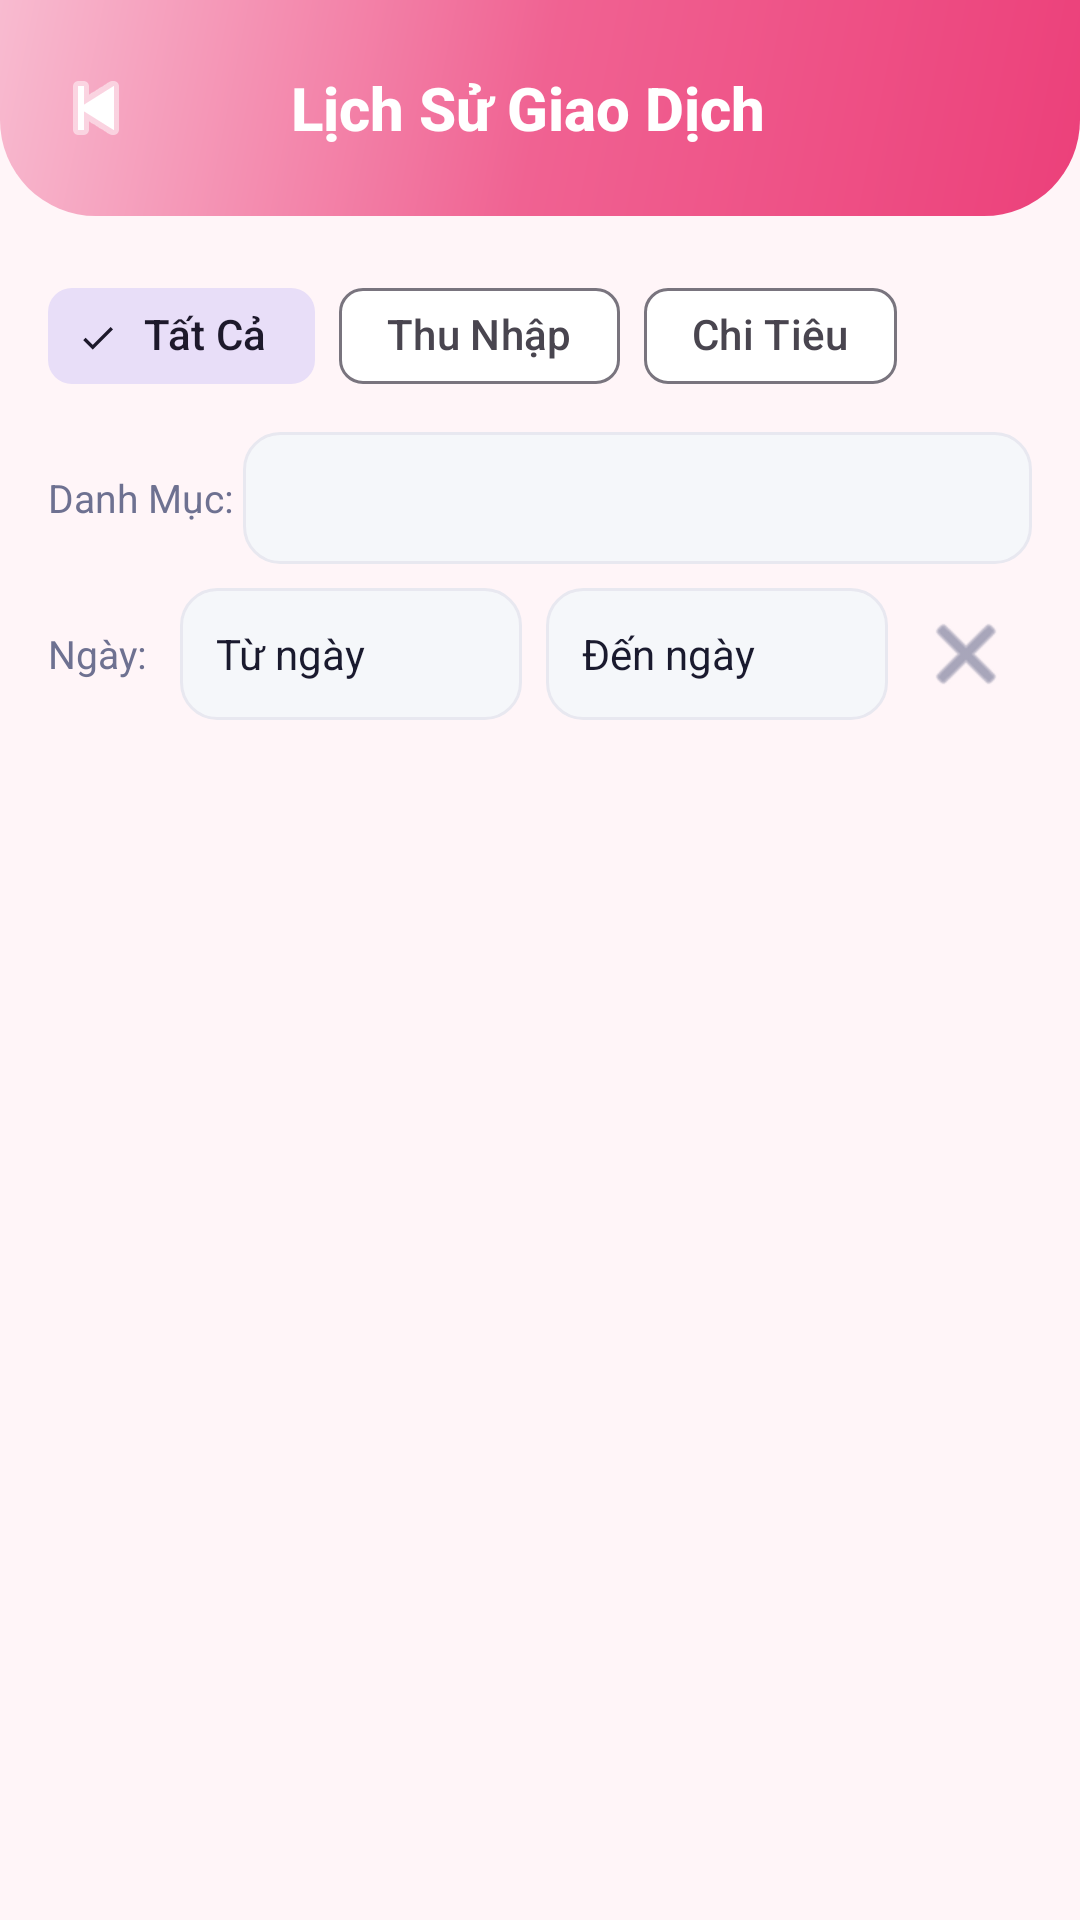

Named icons in this screenshot (1080*1920) and their bounding boxes, (x1=x1, y1=y1, x2=x2, y2=y2):
Back: (x1=73, y1=81, x2=119, y2=135)
Xóa ngày: (x1=936, y1=624, x2=996, y2=684)
